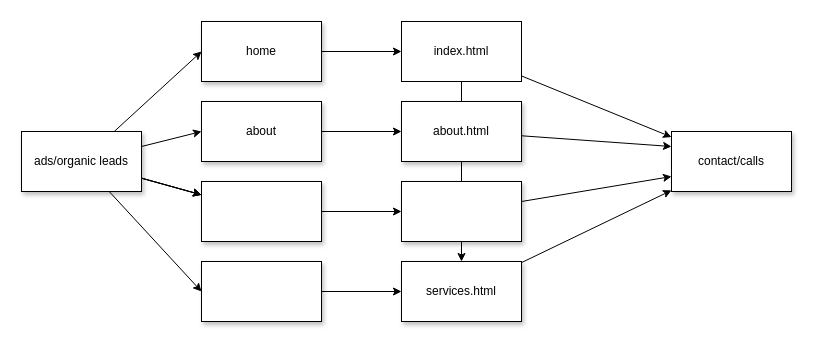
Some shapes in this 815 by 346 pixel diagram are drawn without their labels. The centre of each missing label's shape, as x and y in pixels:
contact: point 262,212
contact.html: point 462,212
services: point 262,292
